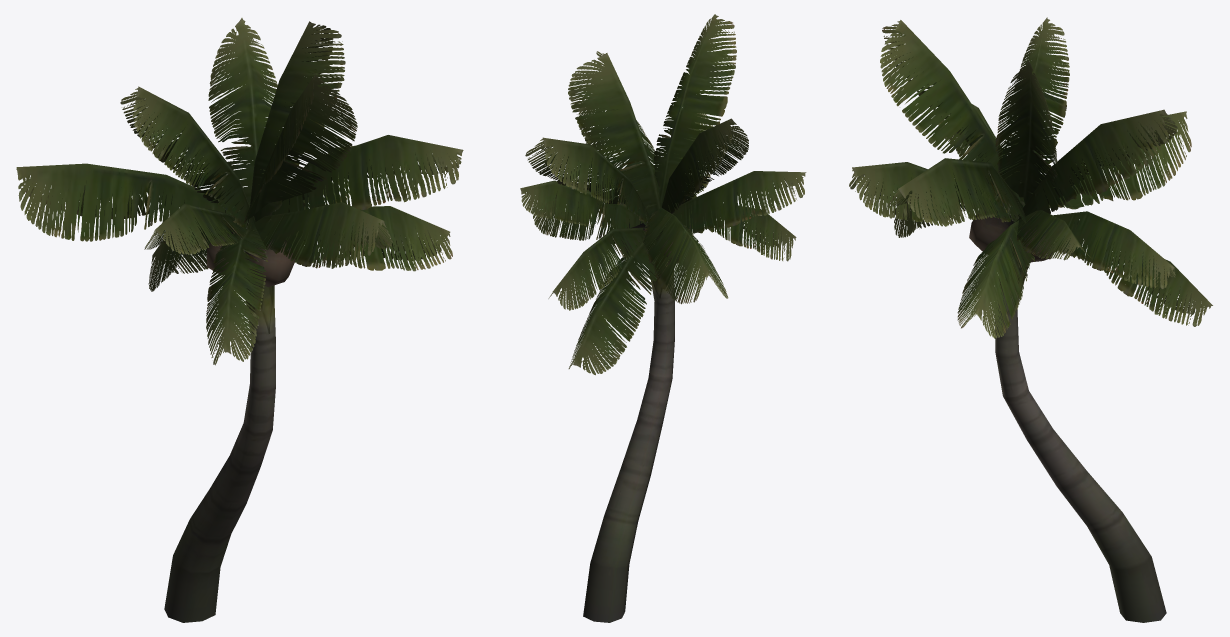
3 renders of one model, left to right at view 1: azimuth 30°, elevation 25°; view 2: azimuth 150°, elevation 25°; view 3: azimuth 270°, elevation 25°, orthographic. The views are drawn at different scales.
Parts seen in each view (by area): view 1: body0_model0_lod0_mesh0; view 2: body0_model0_lod0_mesh0; view 3: body0_model0_lod0_mesh0.
Part boxes in pixels (bbox=[...]): body0_model0_lod0_mesh0: bbox=[16, 18, 463, 622]; body0_model0_lod0_mesh0: bbox=[520, 14, 806, 622]; body0_model0_lod0_mesh0: bbox=[849, 17, 1212, 622].
Bounding box in the file's own units: 163 × 285 × 165.
Materials: 1 (1 with a texture image).
